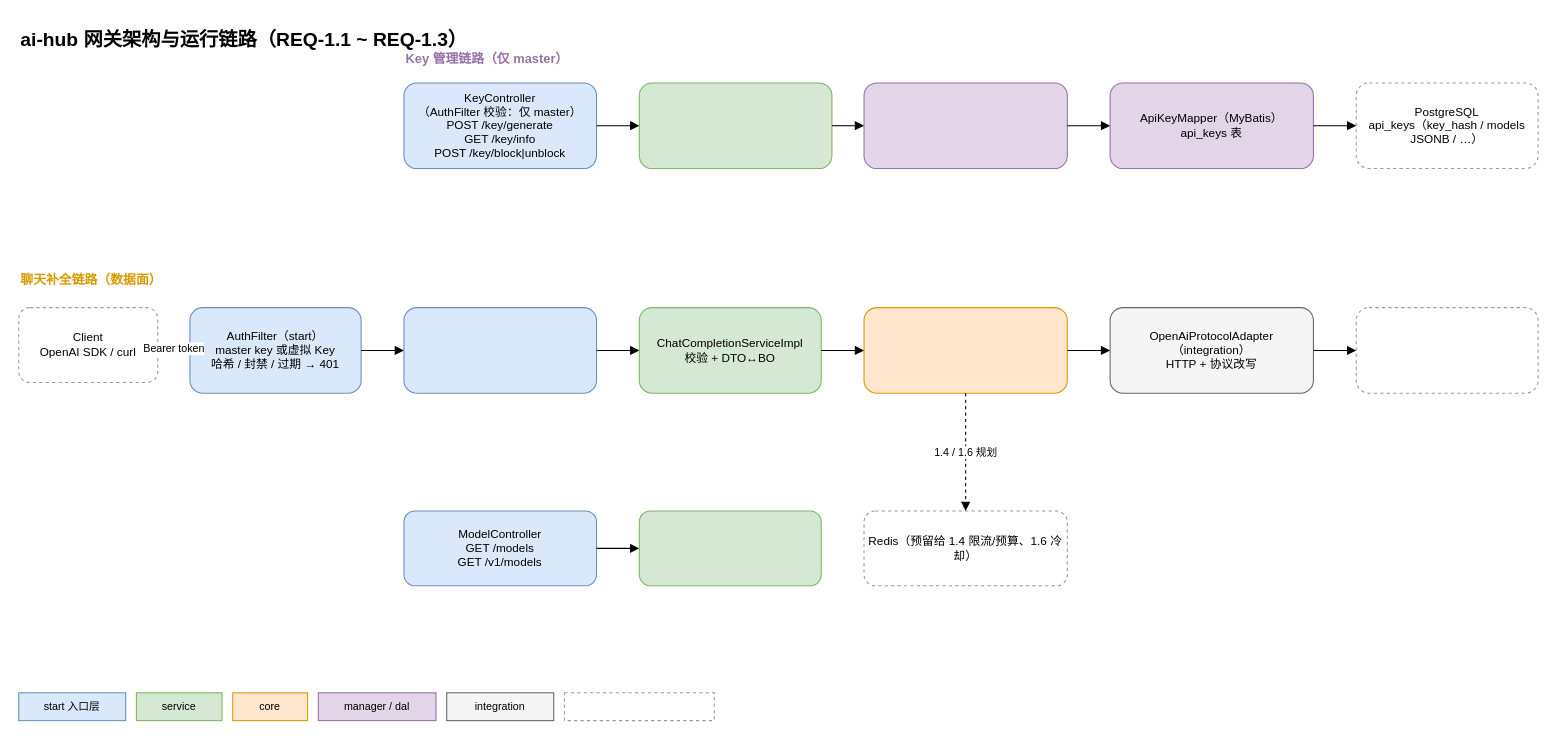
Image size: 1557x739. Some labels were removed from this diagram. The shapes that lost their labels are listed below. From the top down, each one's centre as x and y in pixels, then its label:
At [735,125]: "KeyServiceImpl 生成 / 鉴权 / 查询 / 封禁".
At [965,125]: "ApiKeyManager BO↔DO + JSON 转换".
At [500,350]: "ChatCompletionController /v1/chat/completions /chat/completions".
At [965,350]: "ChatCompletionCore 白名单 → 选部署 → 别名改写 → 回写".
At [1446,350]: "上游 LLM（DeepSeek） OpenAI 兼容接口".
At [729,548]: "ModelServiceImpl 只返回别名".
At [638,706]: "外部系统 / 规划中".
